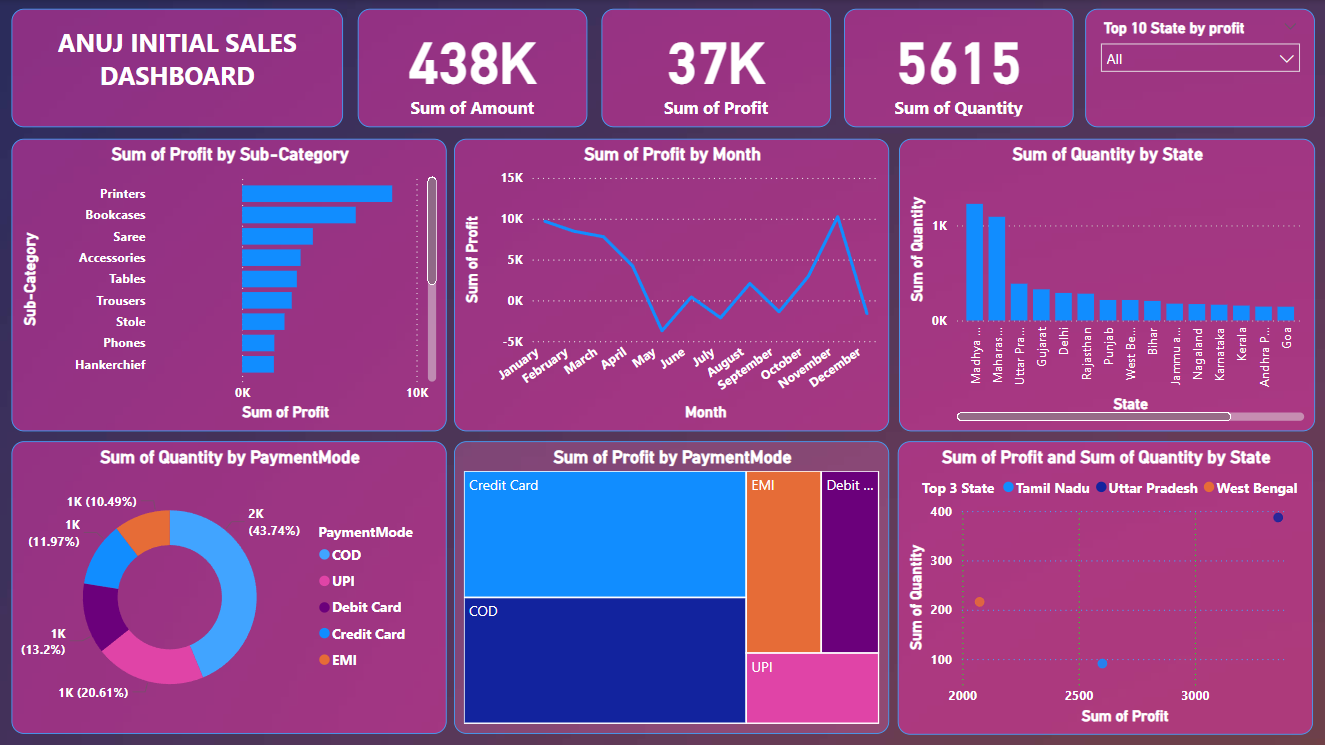

The page's visual inventory and layout, read from the dashboard file:
{"tool":"powerbi","page":{"name":"Page 1","canvas":[1280,720],"ordinal":0},"visuals":[{"type":"barChart","fields":{"Category":["Details.Sub-Category"],"Y":["Details.Profit"]},"box":[11.6,133.3,420.3,282.6],"z":0},{"type":"donutChart","fields":{"Category":["Details.PaymentMode"],"Y":["Details.Quantity"]},"box":[11.6,426.1,420.3,282.6],"z":1000},{"type":"card","fields":{"Values":["Details.Profit"]},"box":[581.2,8.7,221.7,114.5],"z":2000},{"type":"lineChart","fields":{"Y":["Details.Profit"],"Category":["Orders.Order Date.Variation.Date Hierarchy.Month"]},"box":[439.1,133.3,420.3,282.6],"z":3000},{"type":"treemap","fields":{"Values":["Details.Profit"],"Group":["Details.PaymentMode"]},"box":[439.1,426.1,420.3,282.6],"z":4000},{"type":"card","fields":{"Values":["Details.Quantity"]},"box":[815.9,8.7,221.7,114.5],"z":5000},{"type":"slicer","fields":{"Values":["Orders.State"]},"box":[1047.8,8.7,221.7,114.5],"z":6000},{"type":"card","fields":{"Values":["Details.Amount"]},"box":[346.4,8.7,221.7,114.5],"z":6001},{"type":"lineStackedColumnComboChart","fields":{"Category":["Orders.State"],"Y":["Details.Quantity"]},"box":[868.1,133.3,401.4,282.6],"z":6002},{"type":"scatterChart","fields":{"X":["Details.Profit"],"Y":["Details.Quantity"],"Series":["Orders.State"]},"box":[868,426,401,283],"z":6003},{"type":"textbox","box":[11.6,8.7,320.3,114.5],"z":6004}]}

Visuals, with their boxes in screenshot pixels (x1, y1, x2, y2), scaled from the page's 1280x720 canvas onto the 1325x745 screenshot:
barChart - Details.Sub-Category x Details.Profit: (12,138,447,430)
donutChart - Details.PaymentMode x Details.Quantity: (12,441,447,733)
card - Details.Profit: (602,9,831,127)
lineChart - Details.Profit x Orders.Order Date.Variation.Date Hierarchy.Month: (455,138,890,430)
treemap - Details.Profit x Details.PaymentMode: (455,441,890,733)
card - Details.Quantity: (845,9,1074,127)
slicer - Orders.State: (1085,9,1314,127)
card - Details.Amount: (359,9,588,127)
lineStackedColumnComboChart - Orders.State x Details.Quantity: (899,138,1314,430)
scatterChart - Details.Profit x Details.Quantity: (899,441,1314,734)
textbox: (12,9,344,127)
